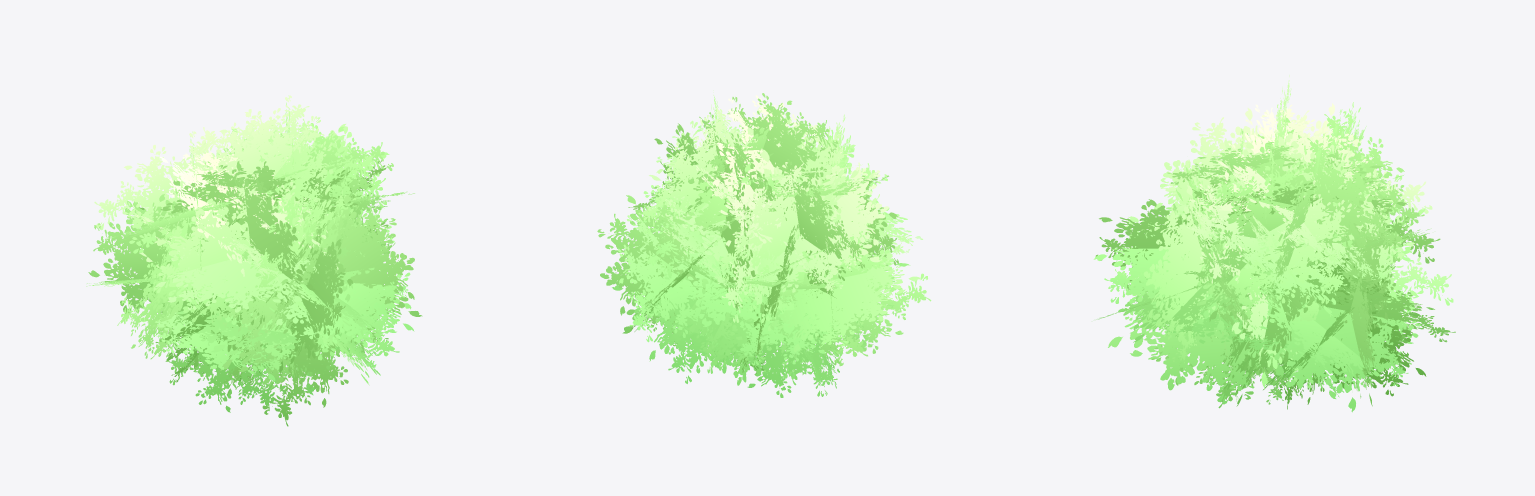
The model's file is leef.glb.
3 renders of one model, left to right at view 1: azimuth 30°, elevation 25°; view 2: azimuth 150°, elevation 25°; view 3: azimuth 270°, elevation 25°, orthographic. The views are drawn at different scales.
Visible parts, largest first — view 1: Plane.026; view 2: Plane.026; view 3: Plane.026.
Boxes of the visible parts, <box> form: Plane.026: <box>86,95,422,426</box>; Plane.026: <box>597,90,931,397</box>; Plane.026: <box>1093,75,1455,412</box>.
Bounding box in the file's own units: 3.35 × 3.2 × 3.24.
1 material, 1 textured.
